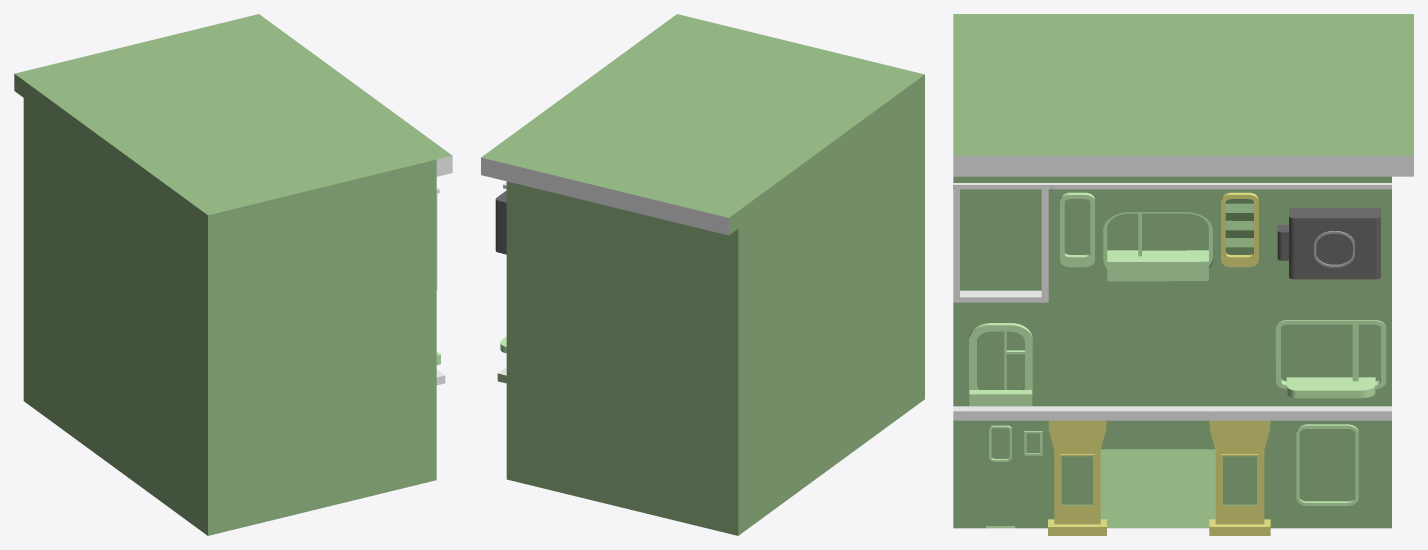
3 renders of one model, left to right at view 1: azimuth 30°, elevation 25°; view 2: azimuth 150°, elevation 25°; view 3: azimuth 270°, elevation 25°, orthographic. The views are drawn at different scales.
Visible parts, largest first — view 1: B5; view 2: B5; view 3: B5.
Part boxes in pixels (box(x1,y1,x2,y2)): B5: box(14, 14, 452, 535); B5: box(481, 14, 924, 535); B5: box(953, 14, 1413, 535).
Size of the model in its own units: 10809 by 13401 by 14664.
